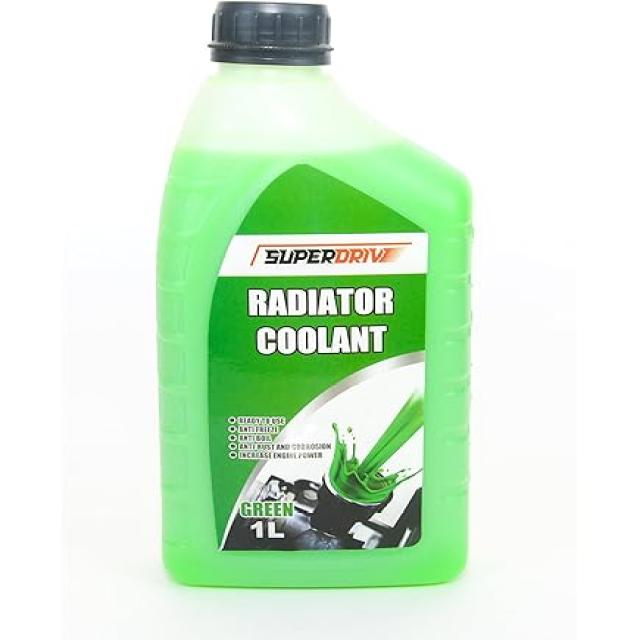coolant: (152, 1, 484, 589)
